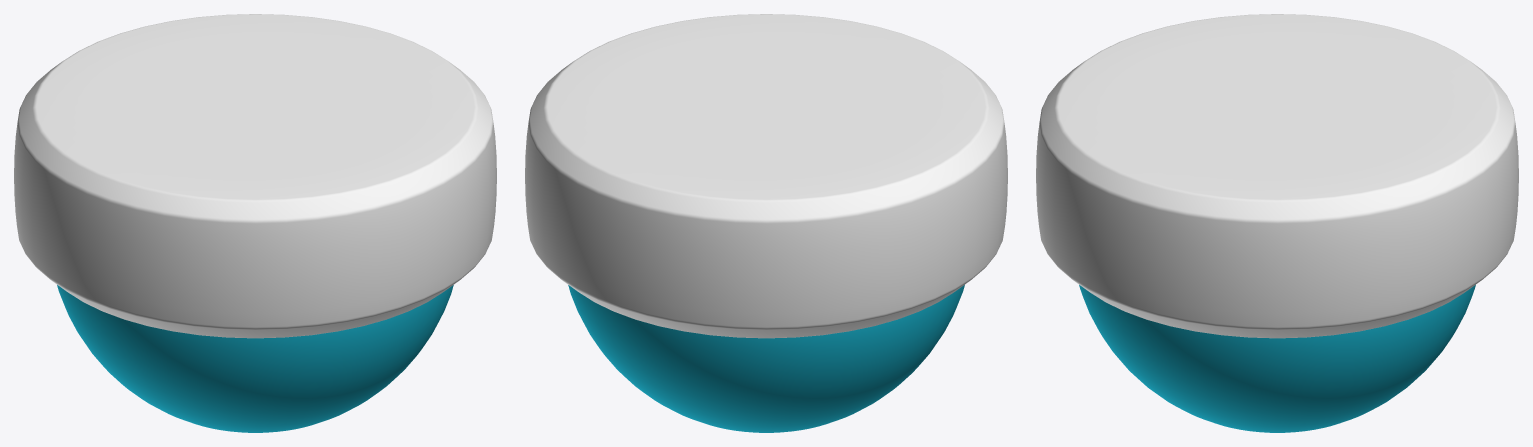
The model's file is cam01.gltf.
3 views of the same model, side by side, from view 1: azimuth 30°, elevation 25°; view 2: azimuth 150°, elevation 25°; view 3: azimuth 270°, elevation 25° (orthographic).
Visible parts, largest first — view 1: cam01; view 2: cam01; view 3: cam01.
Boxes of the visible parts, bbox=[...] form: cam01: bbox=[14, 14, 496, 432]; cam01: bbox=[525, 14, 1007, 432]; cam01: bbox=[1036, 14, 1518, 432].
Bounding box in the file's own units: 0.1986 × 0.1392 × 0.1986.
4 materials, 1 textured.
